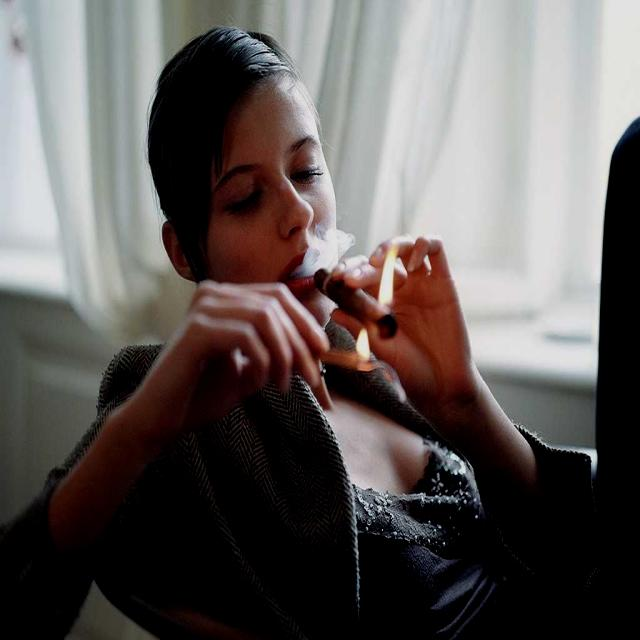Smooking: (315, 257, 403, 354)
